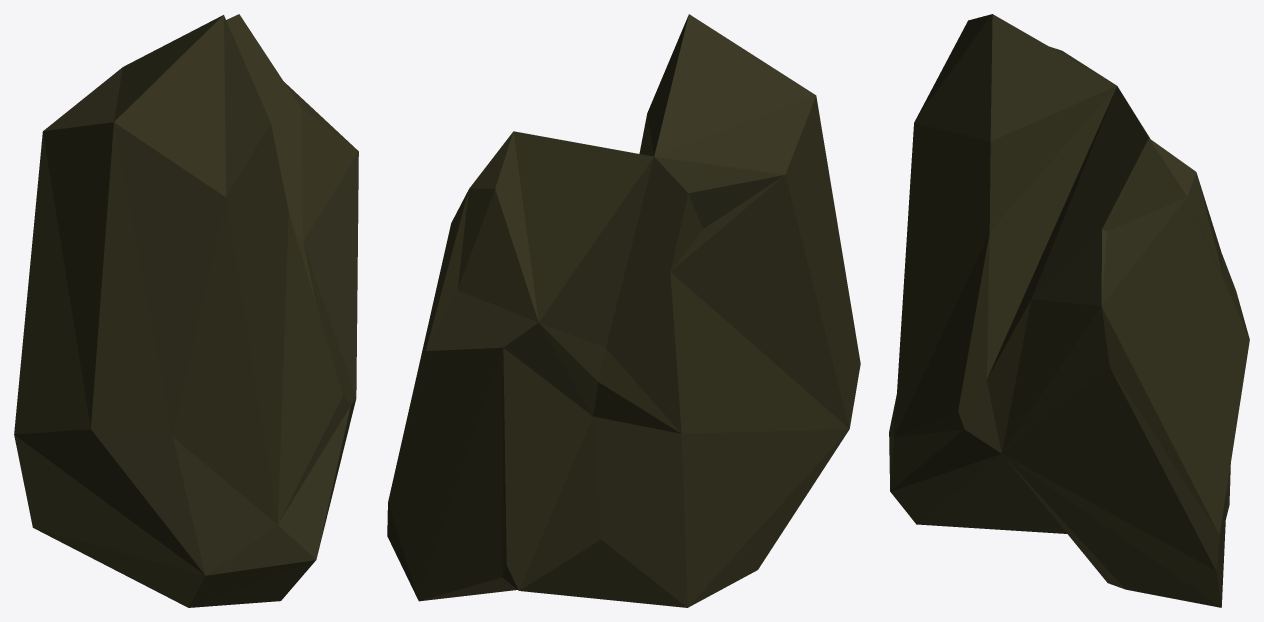
File: shore-cliff-b.lod2.glb
The picture shows the model from 3 angles, left to right: view 1: azimuth 30°, elevation 25°; view 2: azimuth 150°, elevation 25°; view 3: azimuth 270°, elevation 25°; orthographic projection. The views are drawn at different scales.
Visible parts, largest first — view 1: cliff_03_lp.003_cliff_03_0; view 2: cliff_03_lp.003_cliff_03_0; view 3: cliff_03_lp.003_cliff_03_0.
Boxes of the visible parts, <box> form: cliff_03_lp.003_cliff_03_0: <box>14,14,358,607</box>; cliff_03_lp.003_cliff_03_0: <box>387,14,860,607</box>; cliff_03_lp.003_cliff_03_0: <box>889,14,1249,607</box>.
Size of the model in its own units: 9.2 by 13.22 by 8.13.
